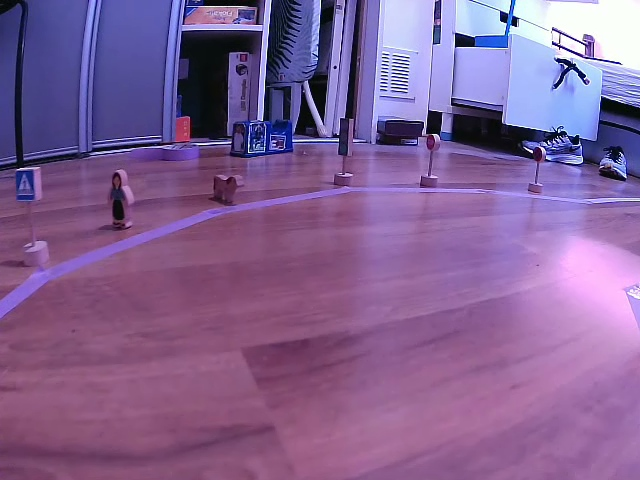mens: (106, 168, 137, 231)
paard: (210, 172, 246, 206)
zebrapad: (15, 171, 39, 201)
